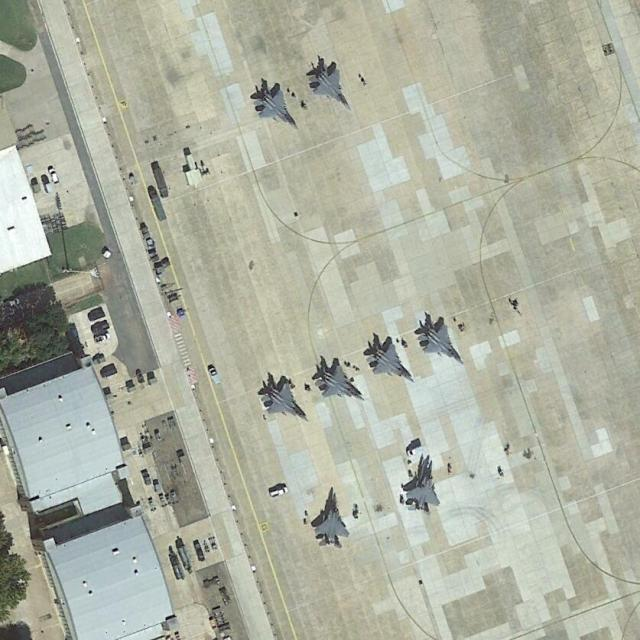fighter jet: (311, 355, 363, 404), (402, 458, 445, 517), (361, 338, 413, 385), (253, 78, 296, 130), (311, 490, 348, 550), (259, 375, 304, 419), (422, 316, 465, 362), (306, 60, 346, 109)
